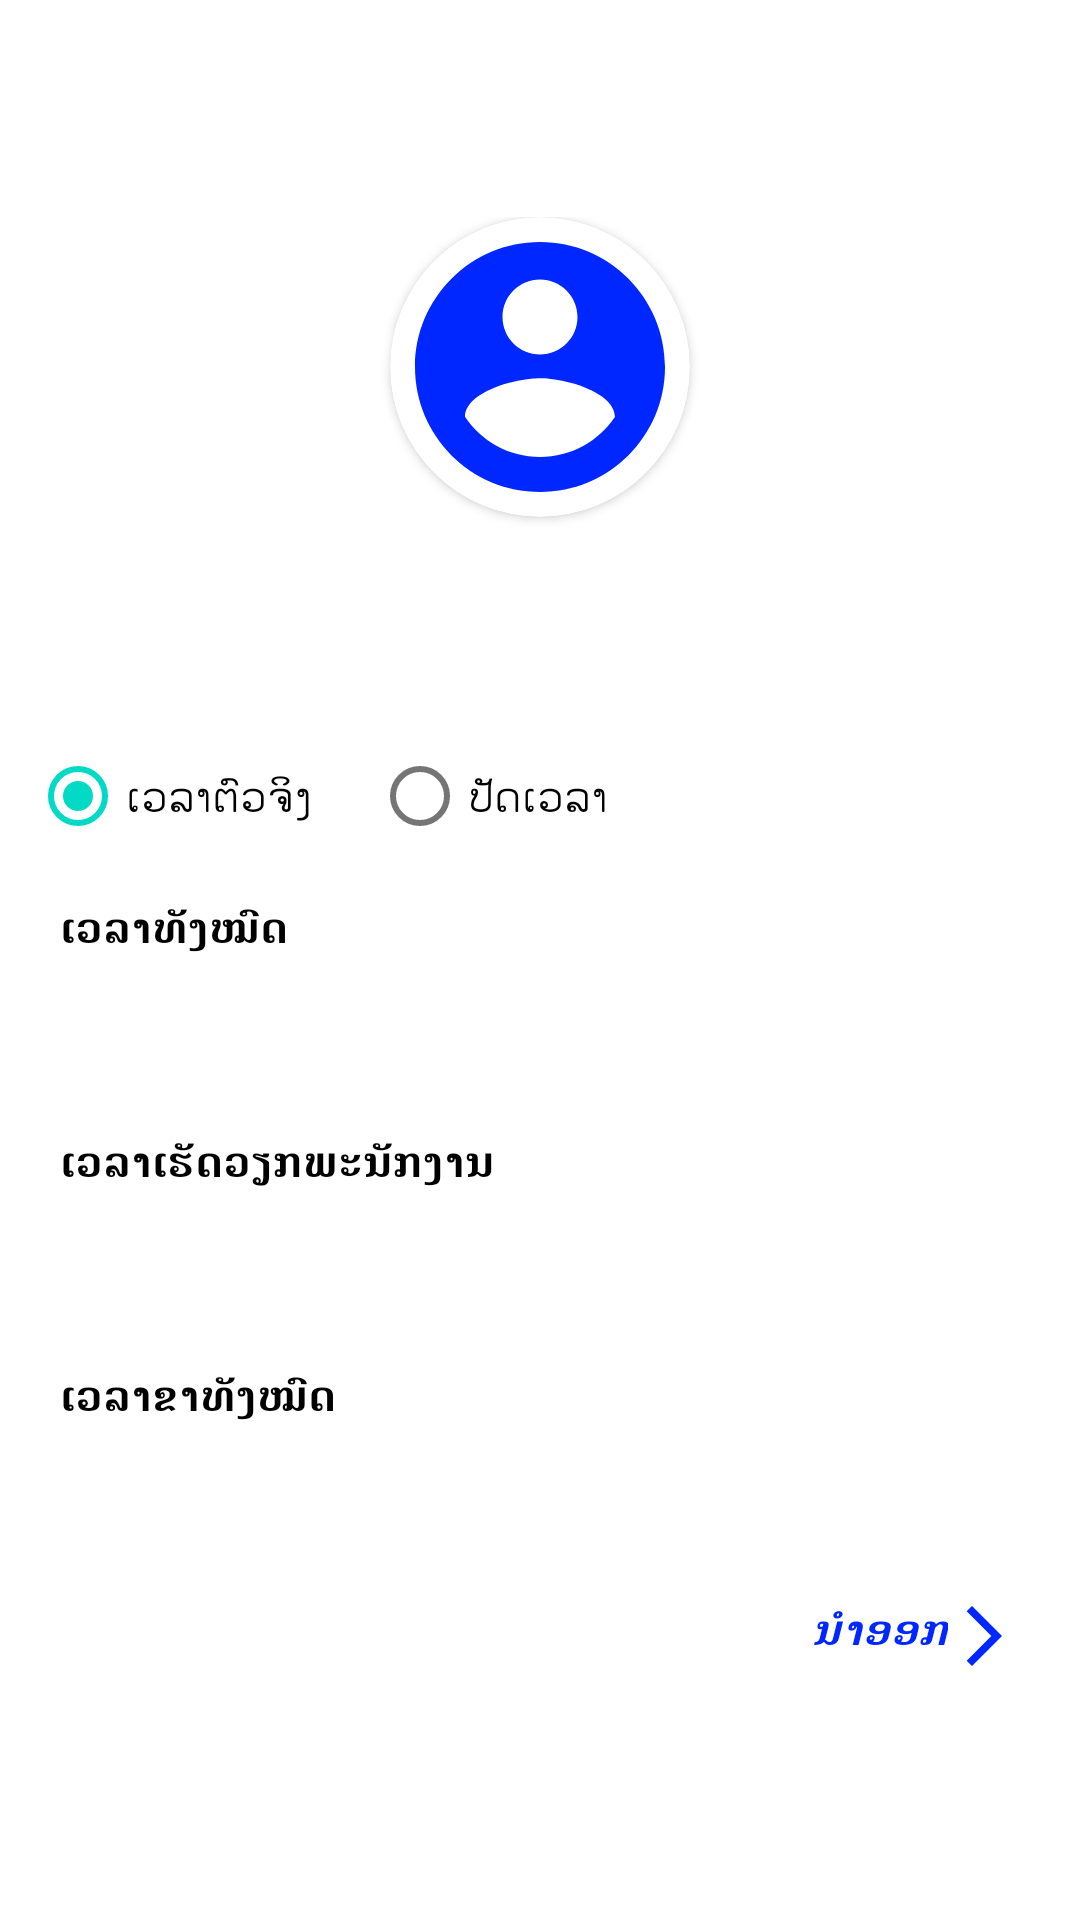

Where icons sit on this 1080 × 1920 app screen, as {"left": x1, "top": y1, "right": x2, "bottom": y2}:
account circle: {"left": 396, "top": 242, "right": 684, "bottom": 517}
